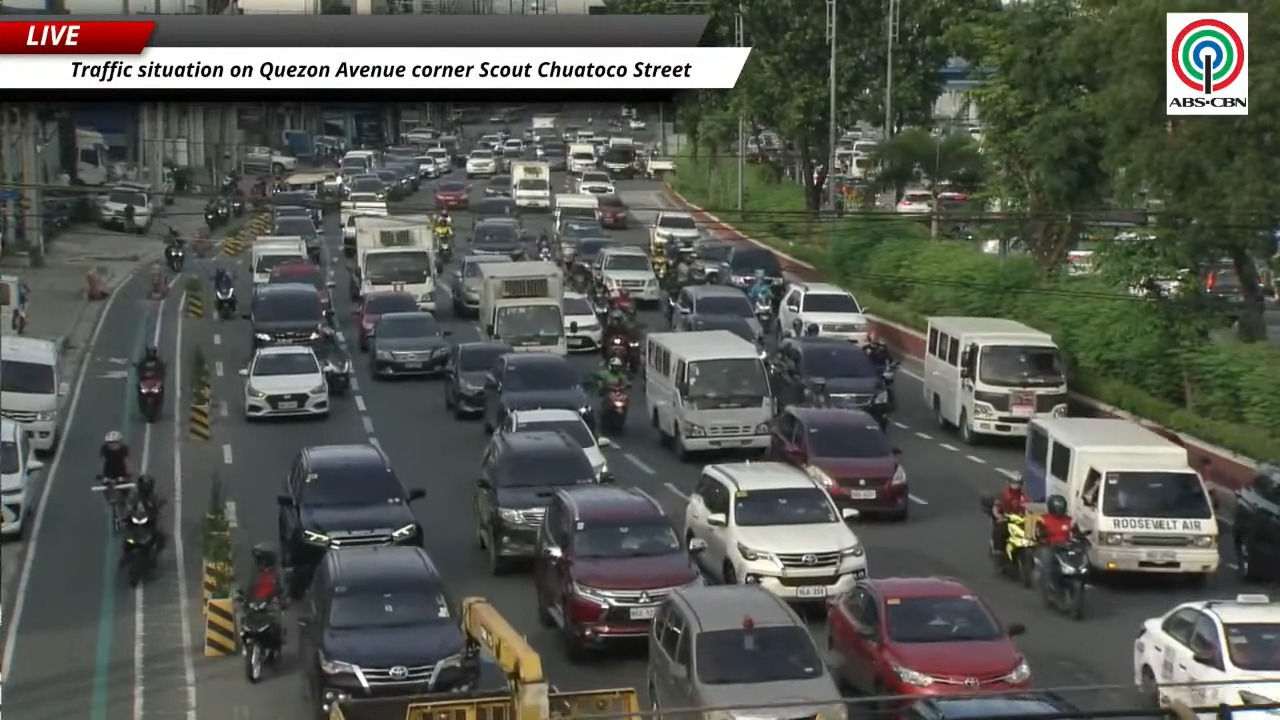car: (299, 546, 504, 717), (533, 485, 700, 659), (647, 585, 846, 719), (827, 577, 1030, 705), (684, 462, 866, 600), (277, 444, 424, 598), (473, 431, 598, 574), (1133, 594, 1279, 707), (770, 405, 909, 519), (769, 337, 892, 427), (483, 353, 593, 432), (495, 408, 610, 479), (240, 345, 330, 420), (1232, 464, 1279, 581), (249, 282, 331, 348), (779, 283, 868, 343), (445, 341, 512, 418), (370, 312, 450, 376), (897, 691, 1079, 719), (0, 418, 43, 536), (668, 285, 762, 338), (593, 245, 665, 305), (353, 290, 418, 351), (449, 254, 511, 316), (268, 258, 334, 310), (717, 243, 784, 291), (99, 182, 154, 233), (562, 292, 602, 351), (555, 218, 607, 262), (470, 217, 524, 259), (685, 315, 760, 342), (689, 240, 733, 283), (271, 191, 322, 227), (574, 228, 621, 267), (653, 211, 702, 247), (471, 196, 517, 222), (387, 158, 420, 193), (601, 145, 636, 178), (348, 173, 387, 201), (375, 168, 410, 199), (598, 195, 628, 229), (436, 180, 469, 209), (465, 149, 498, 178), (895, 190, 934, 214), (576, 171, 615, 194), (412, 153, 441, 180), (426, 146, 452, 175), (401, 126, 439, 145), (539, 145, 566, 171), (484, 175, 512, 196), (502, 138, 524, 157), (628, 118, 646, 130)
motorcycle: (980, 496, 1036, 587), (1034, 529, 1090, 619), (236, 592, 282, 682), (122, 511, 158, 586), (92, 476, 134, 531), (599, 385, 630, 436), (322, 346, 350, 393), (137, 375, 163, 423), (603, 331, 629, 366), (215, 285, 237, 320), (204, 203, 229, 230), (568, 264, 591, 293), (754, 295, 773, 327), (165, 245, 184, 273), (437, 228, 452, 262), (228, 188, 246, 216), (651, 255, 668, 284), (881, 361, 898, 387), (220, 175, 239, 194), (537, 245, 553, 261)
truck: (324, 597, 639, 719), (349, 216, 436, 311), (479, 261, 567, 354), (339, 193, 388, 257), (251, 235, 308, 284), (75, 127, 113, 185), (650, 211, 701, 254), (511, 161, 551, 210), (241, 146, 297, 174), (568, 141, 596, 173), (645, 156, 674, 180), (531, 114, 557, 133)
